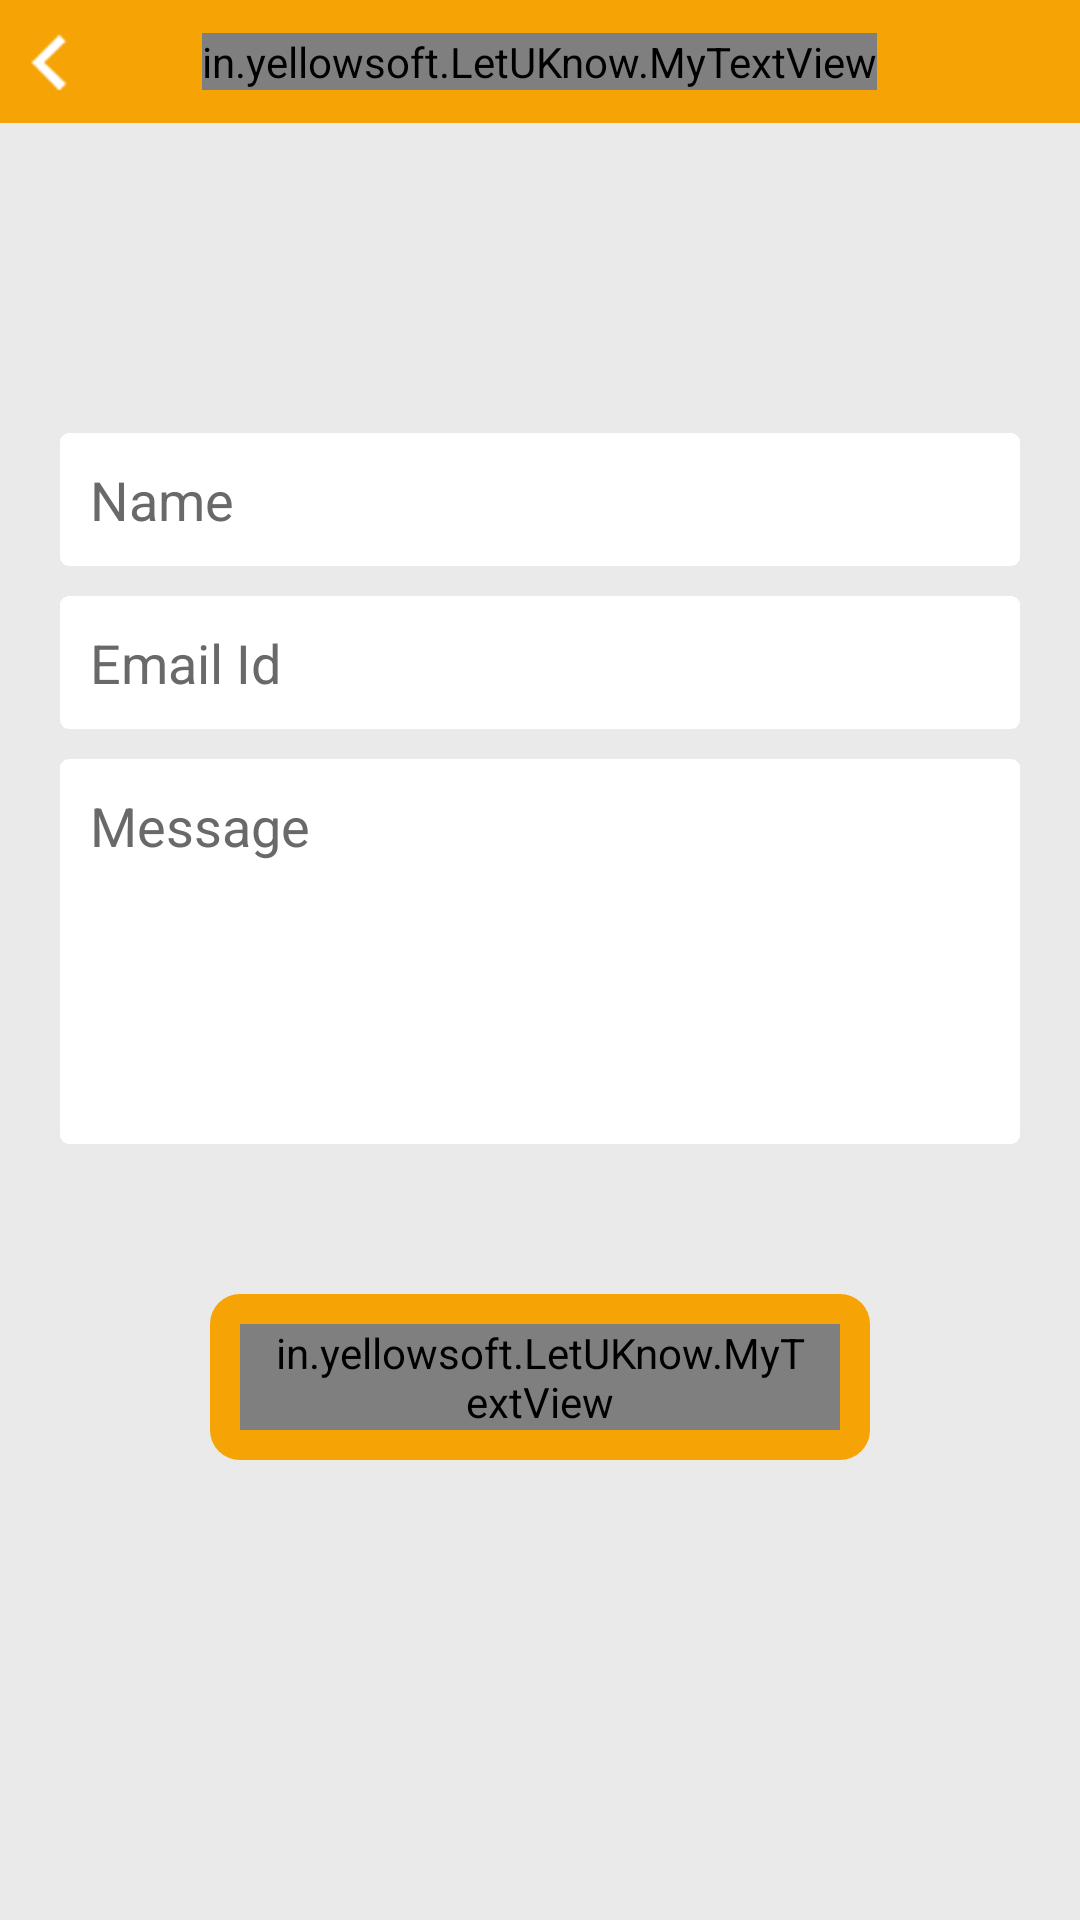

Screen size 1080 × 1920. Icon name, then its box in pixels as (x1, y1, x2, y2):
back: (31, 34, 67, 91)
